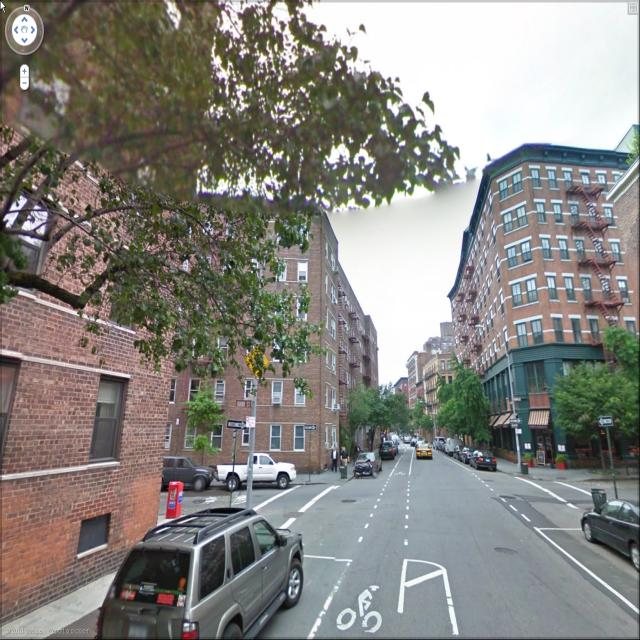b_1: (436, 150, 640, 364), (406, 331, 449, 410)
b_2: (4, 1, 221, 622), (173, 190, 391, 464)
